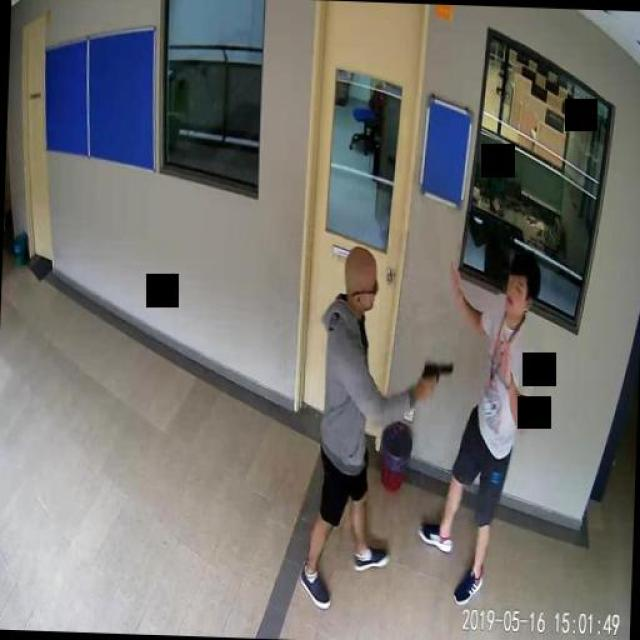gun: (420, 358, 452, 393)
